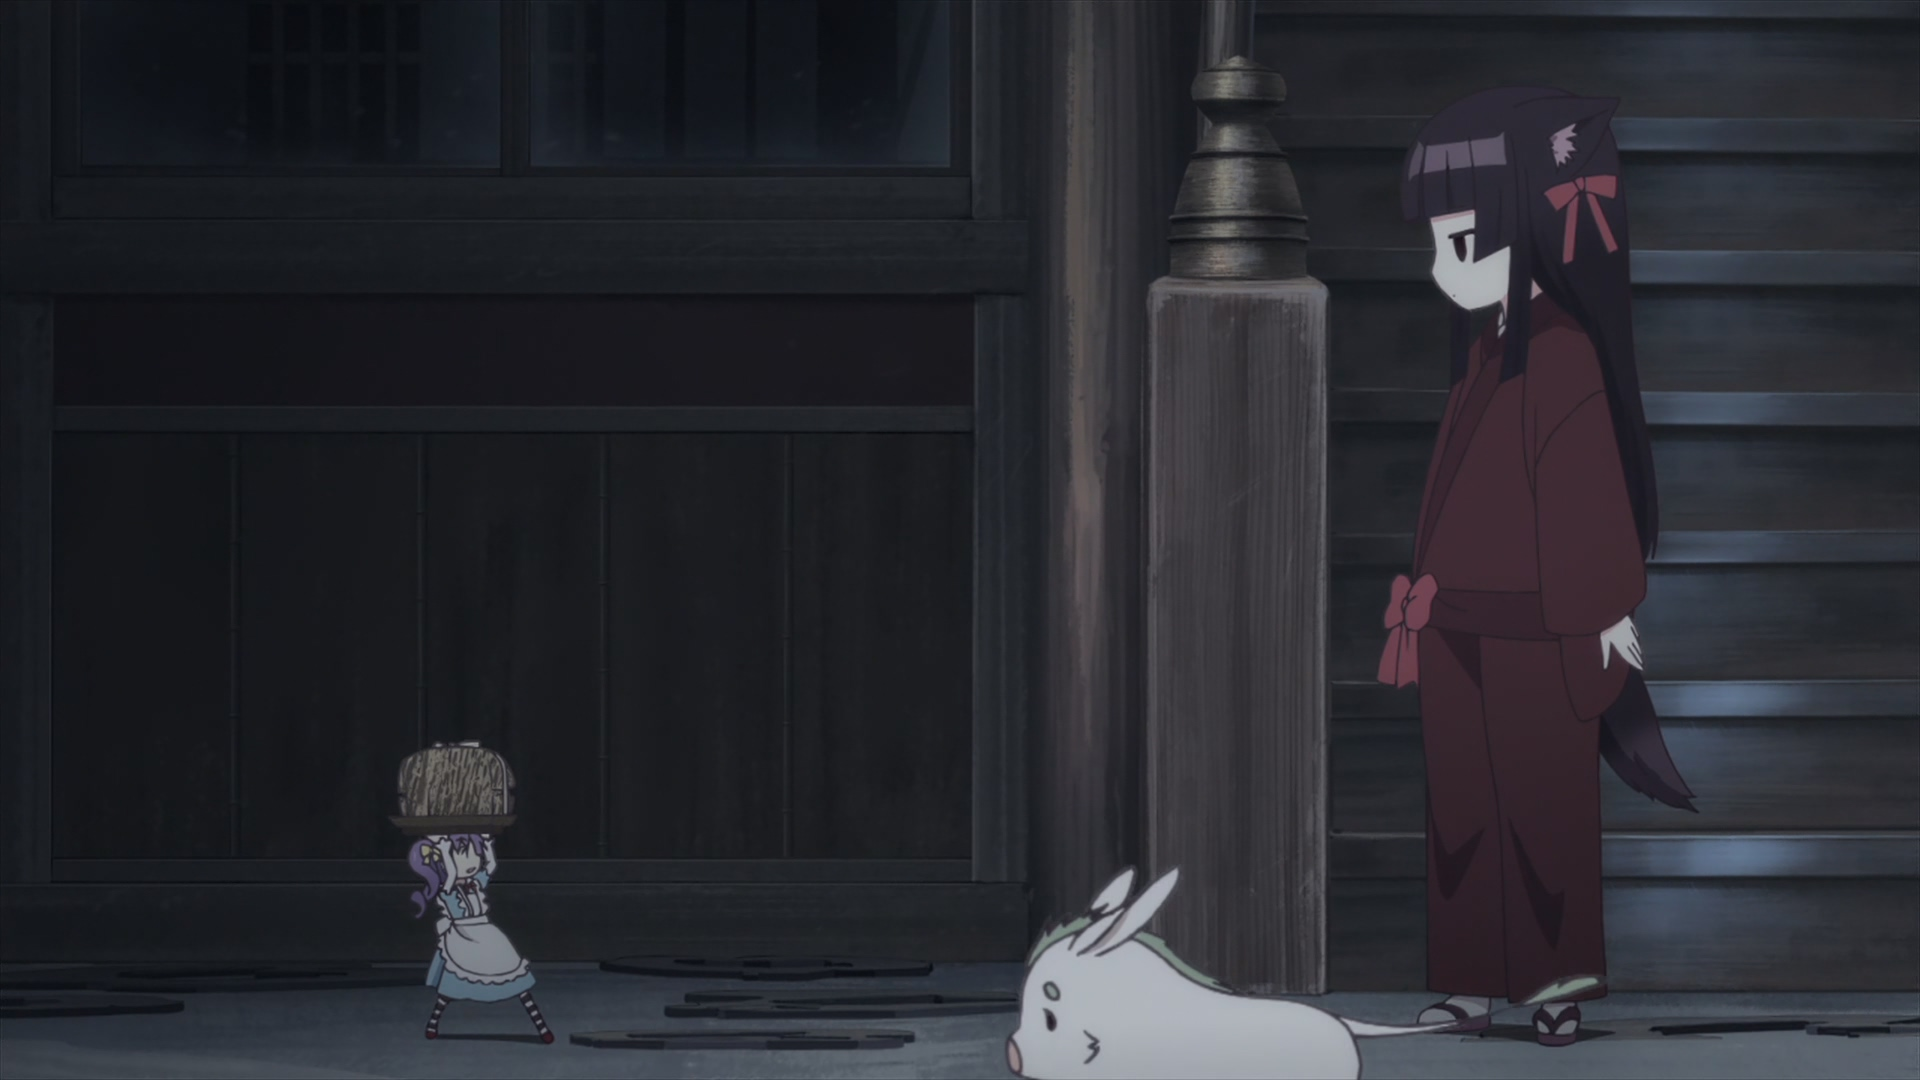樱: (1375, 87, 1698, 1047)
瓜之介: (1007, 866, 1600, 1080)
阿菊: (407, 831, 560, 1044)
